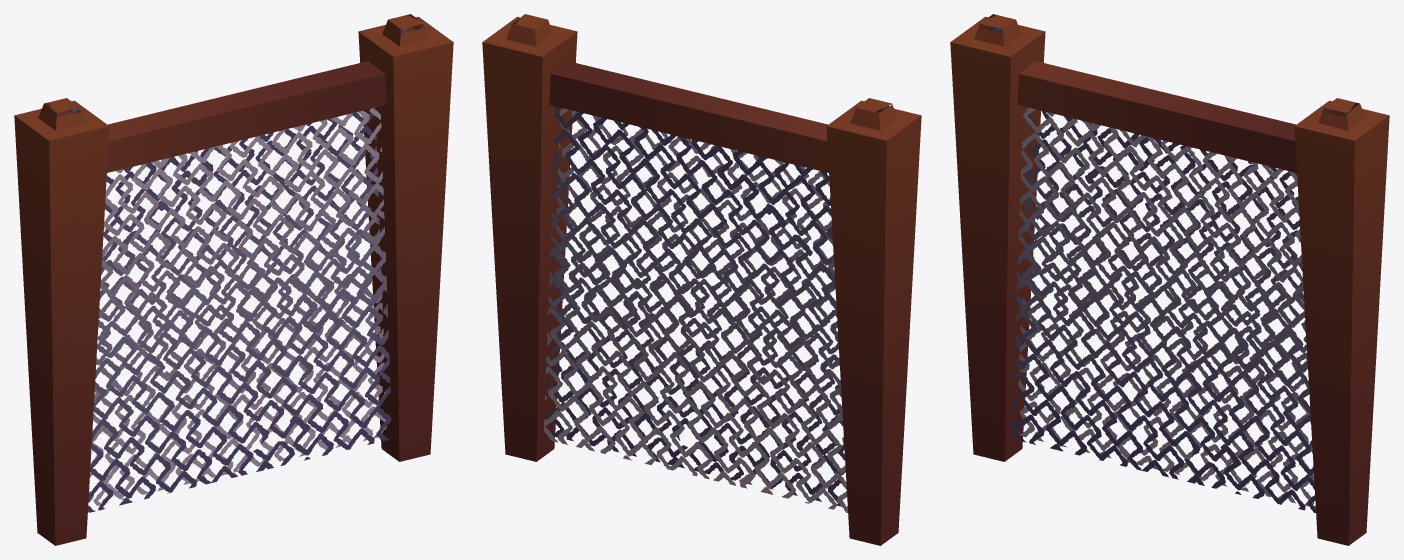
The model's file is Fence.fbx.
The picture shows the model from 3 angles, left to right: view 1: azimuth 30°, elevation 25°; view 2: azimuth 150°, elevation 25°; view 3: azimuth 330°, elevation 25°; orthographic projection.
Visible parts, largest first — view 1: Fence; view 2: Fence; view 3: Fence.
Part boxes in pixels (left/top/right/bottom): Fence: left=14, top=14, right=453, bottom=545; Fence: left=482, top=14, right=921, bottom=545; Fence: left=950, top=14, right=1389, bottom=545.
Bounding box in the file's own units: 5.3 × 5.38 × 0.791.
